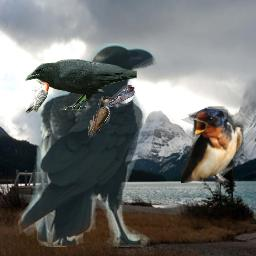Crow: (18, 43, 160, 247), (25, 59, 137, 111)
Cuckoo: (88, 96, 121, 138)
Swallow: (181, 106, 244, 183), (107, 85, 135, 107)
Woodpecker: (24, 79, 49, 115)
